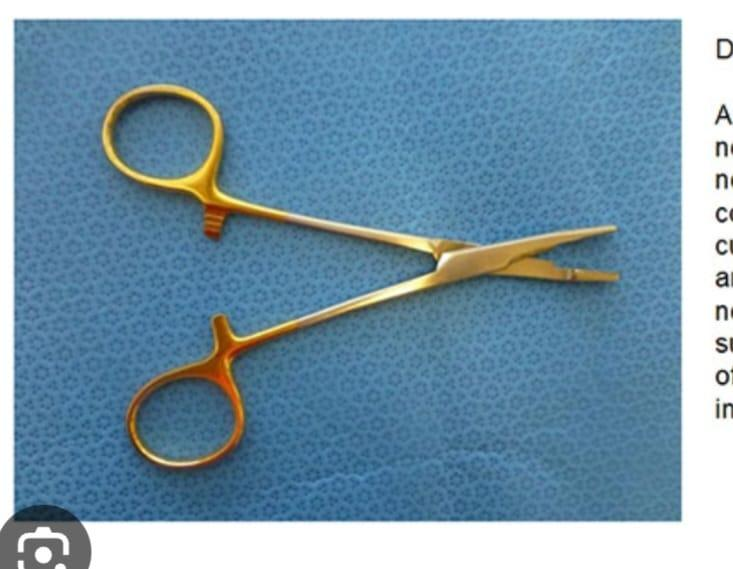Needle Holder: (95, 82, 625, 469)
